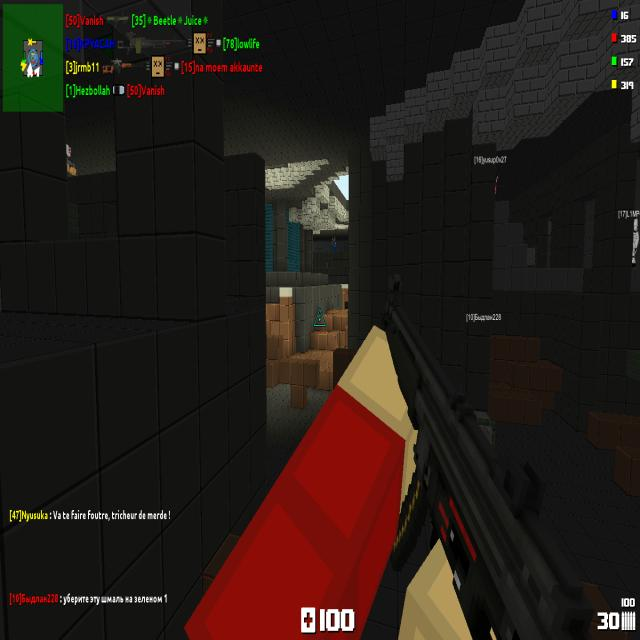enemy: (65, 142, 77, 176), (331, 236, 337, 252)
